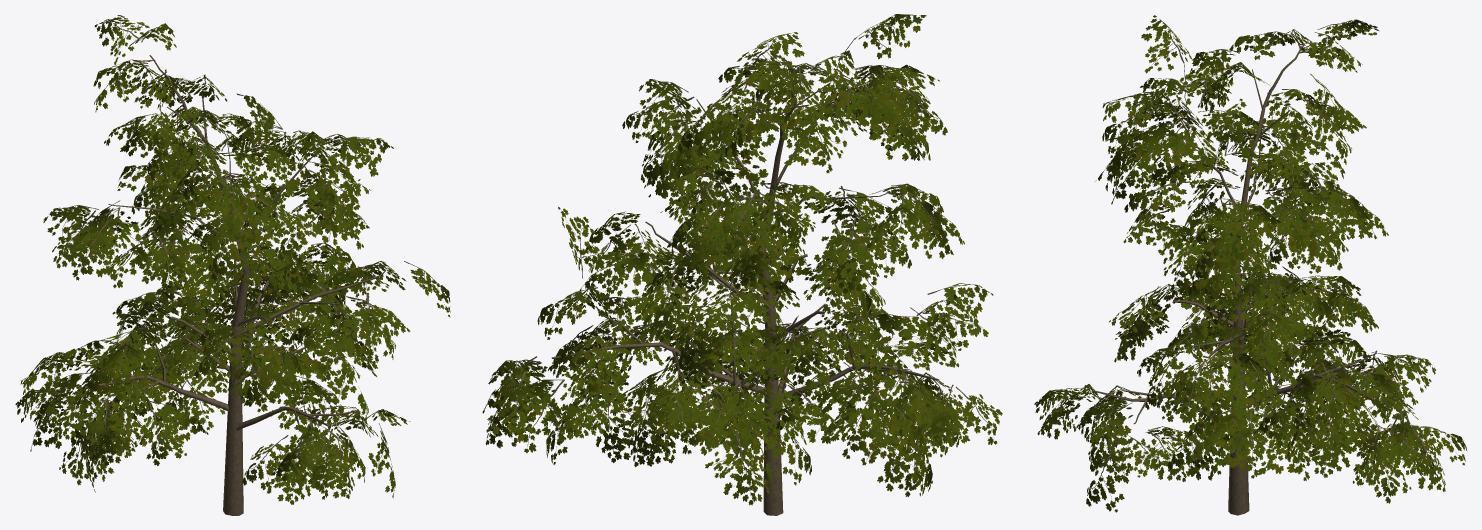
File: maple_m1.glb
3 renders of one model, left to right at view 1: azimuth 30°, elevation 25°; view 2: azimuth 150°, elevation 25°; view 3: azimuth 270°, elevation 25°, orthographic. The views are drawn at different scales.
Visible parts, largest first — view 1: Acer_medium_1_LOD2_Cluster_Mat_0, Acer_medium_1_LOD2_Bark_Mat_0; view 2: Acer_medium_1_LOD2_Cluster_Mat_0, Acer_medium_1_LOD2_Bark_Mat_0; view 3: Acer_medium_1_LOD2_Cluster_Mat_0, Acer_medium_1_LOD2_Bark_Mat_0.
Boxes of the visible parts, x1,y1,x2,y2 form: Acer_medium_1_LOD2_Cluster_Mat_0: (15, 15, 450, 504); Acer_medium_1_LOD2_Bark_Mat_0: (77, 55, 385, 515); Acer_medium_1_LOD2_Cluster_Mat_0: (482, 14, 1002, 505); Acer_medium_1_LOD2_Bark_Mat_0: (551, 38, 938, 515); Acer_medium_1_LOD2_Cluster_Mat_0: (1034, 15, 1466, 512); Acer_medium_1_LOD2_Bark_Mat_0: (1095, 31, 1389, 515).
Size of the model in its own units: 8.65 by 9.5 by 8.13.
Materials: 2 (2 with a texture image).
